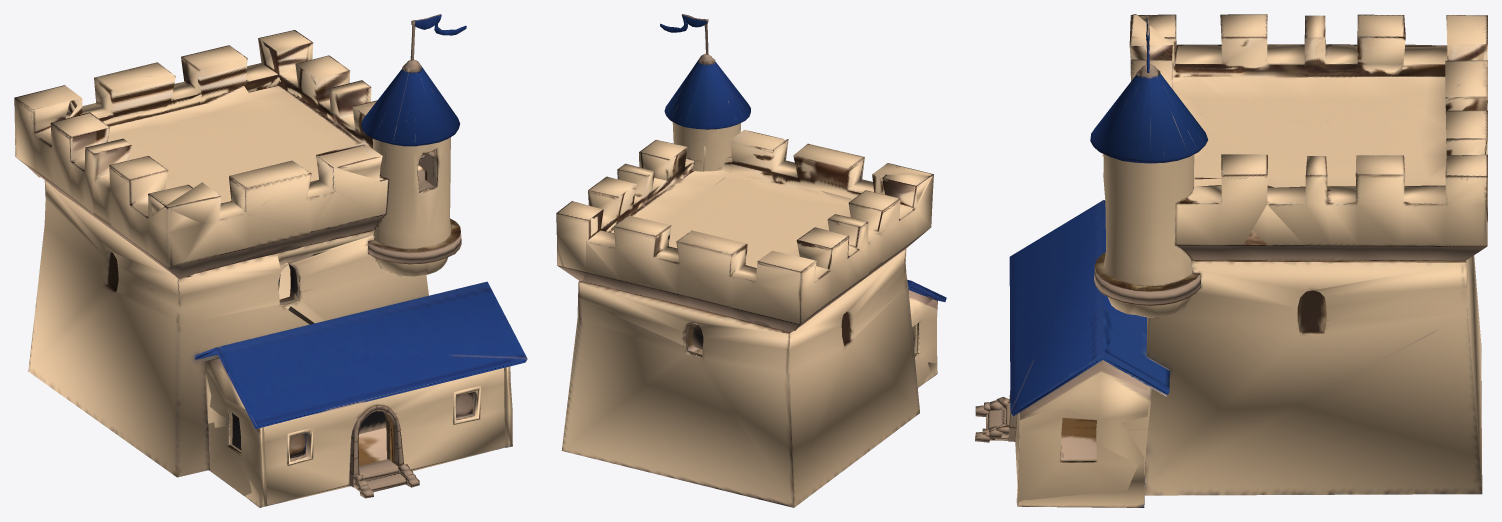
File: meshy-c3-e1.glb
3 views of the same model, side by side, from view 1: azimuth 30°, elevation 25°; view 2: azimuth 150°, elevation 25°; view 3: azimuth 270°, elevation 25° (orthographic). The views are drawn at different scales.
Size of the model in its own units: 0.8125 by 0.9956 by 0.9961.
1 material, 1 textured.
